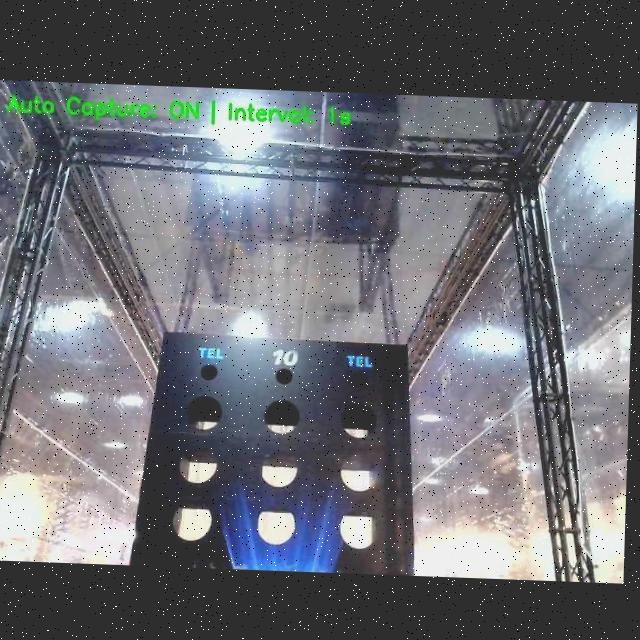hole: (341, 453, 380, 494), (340, 509, 379, 550), (172, 502, 212, 541), (180, 446, 219, 485), (257, 507, 296, 546), (260, 450, 299, 488), (340, 403, 378, 438), (264, 399, 300, 434), (188, 395, 223, 429), (351, 371, 370, 389), (200, 363, 219, 380), (276, 368, 294, 385)
